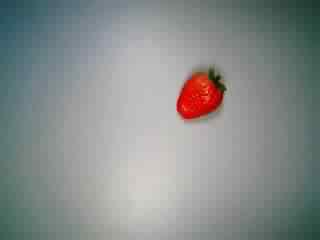strawberry: (167, 62, 233, 128)
